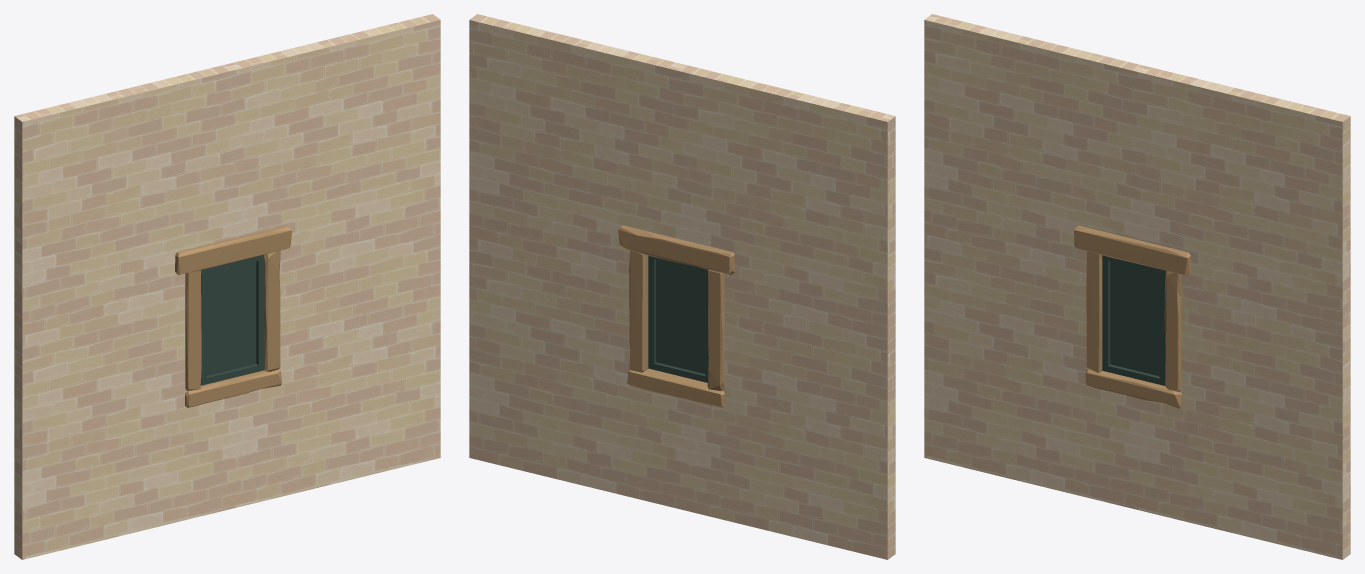
Rendered from SM_wall_window_03.fbx.
The picture shows the model from 3 angles, left to right: view 1: azimuth 30°, elevation 25°; view 2: azimuth 150°, elevation 25°; view 3: azimuth 330°, elevation 25°; orthographic projection.
Parts seen in each view (by area): view 1: Plane224; view 2: Plane224; view 3: Plane224.
Boxes of the visible parts, box(x1,y1,x2,y2) form: Plane224: box(14, 14, 440, 559); Plane224: box(469, 14, 895, 559); Plane224: box(924, 14, 1350, 559).
Size of the model in its own units: 169 by 169 by 10.22.
